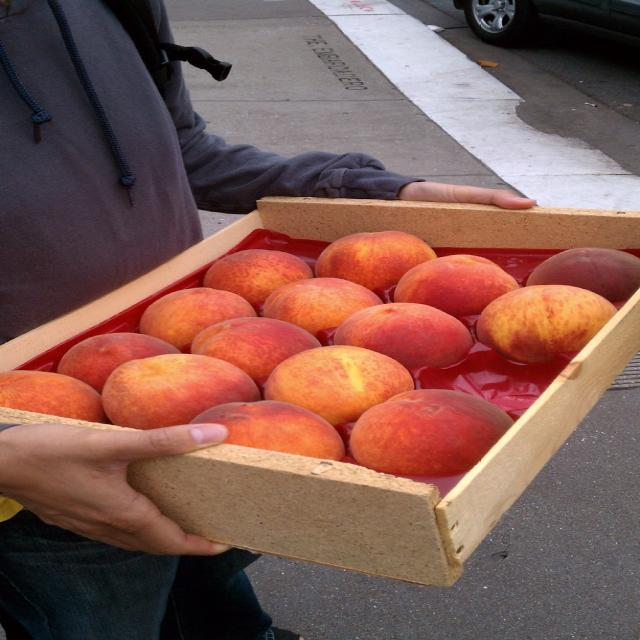Peach: (0, 230, 639, 477), (100, 352, 246, 427)
